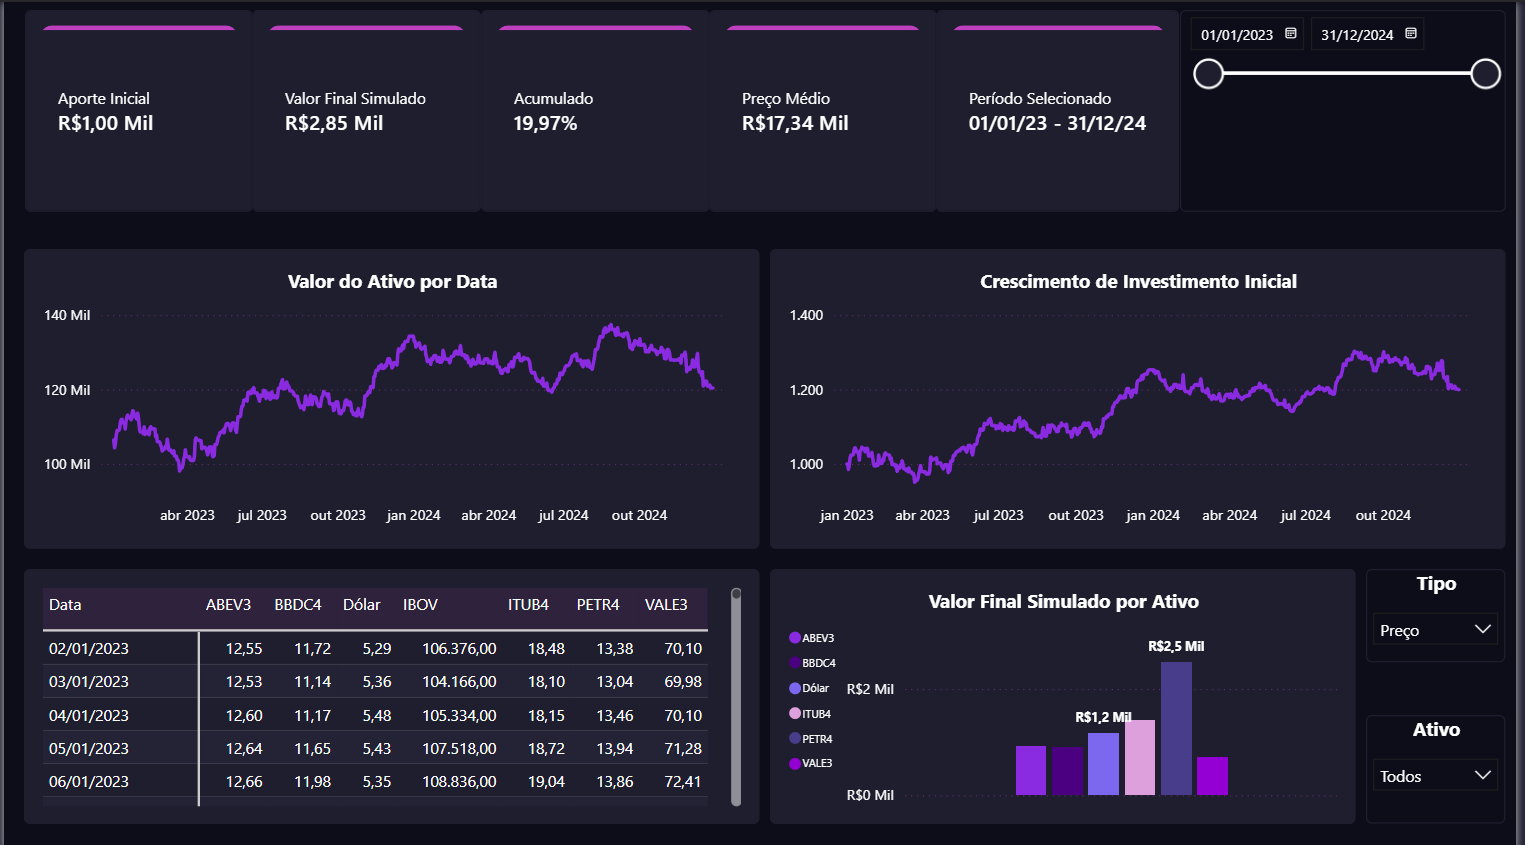

The page's visual inventory and layout, read from the dashboard file:
{"tool":"powerbi","page":{"name":"Página 1","canvas":[1280,720],"ordinal":0},"visuals":[{"type":"slicer","title":"Ativo","fields":{"Values":["DimAtivos.Ativo"]},"box":[1153.6,604,117.7,92.4],"z":0},{"type":"pivotTable","fields":{"Rows":["DimDate.Date"],"Columns":["DimAtivos.Ativo"],"Values":["Sum(Fato_Dados_Financeiros.Valor)"]},"box":[17.3,480.4,622.7,216.5],"z":1000},{"type":"cardVisual","fields":{"Data":["_Medidas.Acumulado"]},"box":[403.6,6.8,193.6,171.2],"z":2000},{"type":"cardVisual","fields":{"Data":["_Medidas.Aporte Inicial"]},"box":[17.5,6.8,192.6,171.2],"z":3000},{"type":"cardVisual","fields":{"Data":["_Medidas.Preço"]},"box":[597.2,6.8,192.6,171.2],"z":4000},{"type":"slicer","title":"Tipo","fields":{"Values":["DimTipo.Tipo"]},"box":[1153.6,480.5,117.7,78.8],"z":5000},{"type":"slicer","fields":{"Values":["DimDate.Date"]},"box":[996,6.8,276.2,171.2],"z":6000},{"type":"cardVisual","fields":{"Data":["DimAtivos.Valor Final Simulado"]},"box":[210.1,6.8,193.6,171.2],"z":7000},{"type":"lineChart","title":"Valor do Ativo por Data","fields":{"Y":["Sum(Fato_Dados_Financeiros.Valor)"],"Category":["DimDate.Date"]},"box":[17.3,209.6,622.7,253.6],"z":8000},{"type":"lineChart","title":"Crescimento de Investimento Inicial","fields":{"Category":["DimDate.Date"],"Y":["_Medidas.Valor Simulado"]},"box":[648.6,209.6,622.7,253.6],"z":9000},{"type":"clusteredColumnChart","fields":{"Y":["_Medidas.Valor Final Simulado"],"Series":["DimAtivos.Ativo"]},"box":[648.6,480.4,496,215.6],"z":10000},{"type":"cardVisual","fields":{"Data":["DimAtivos.Período Selecionado"]},"box":[789.8,6.8,206.2,171.2],"z":11000}]}

Visuals, with their boxes in screenshot pixels (x1, y1, x2, y2), scaled from the page's 1280x720 canvas onto the 1525x845 screenshot:
"Ativo" slicer: [1374, 709, 1515, 817]
pivotTable - DimDate.Date x DimAtivos.Ativo: [21, 564, 762, 818]
cardVisual - _Medidas.Acumulado: [481, 8, 712, 209]
cardVisual - _Medidas.Aporte Inicial: [21, 8, 250, 209]
cardVisual - _Medidas.Preço: [712, 8, 941, 209]
"Tipo" slicer: [1374, 564, 1515, 656]
slicer - DimDate.Date: [1187, 8, 1516, 209]
cardVisual - DimAtivos.Valor Final Simulado: [250, 8, 481, 209]
"Valor do Ativo por Data" lineChart: [21, 246, 762, 544]
"Crescimento de Investimento Inicial" lineChart: [773, 246, 1515, 544]
clusteredColumnChart - _Medidas.Valor Final Simulado x DimAtivos.Ativo: [773, 564, 1364, 817]
cardVisual - DimAtivos.Período Selecionado: [941, 8, 1187, 209]
